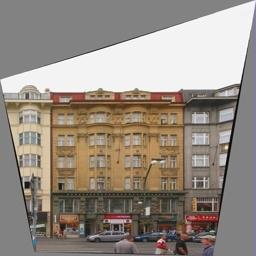building: (49, 78, 184, 238)
